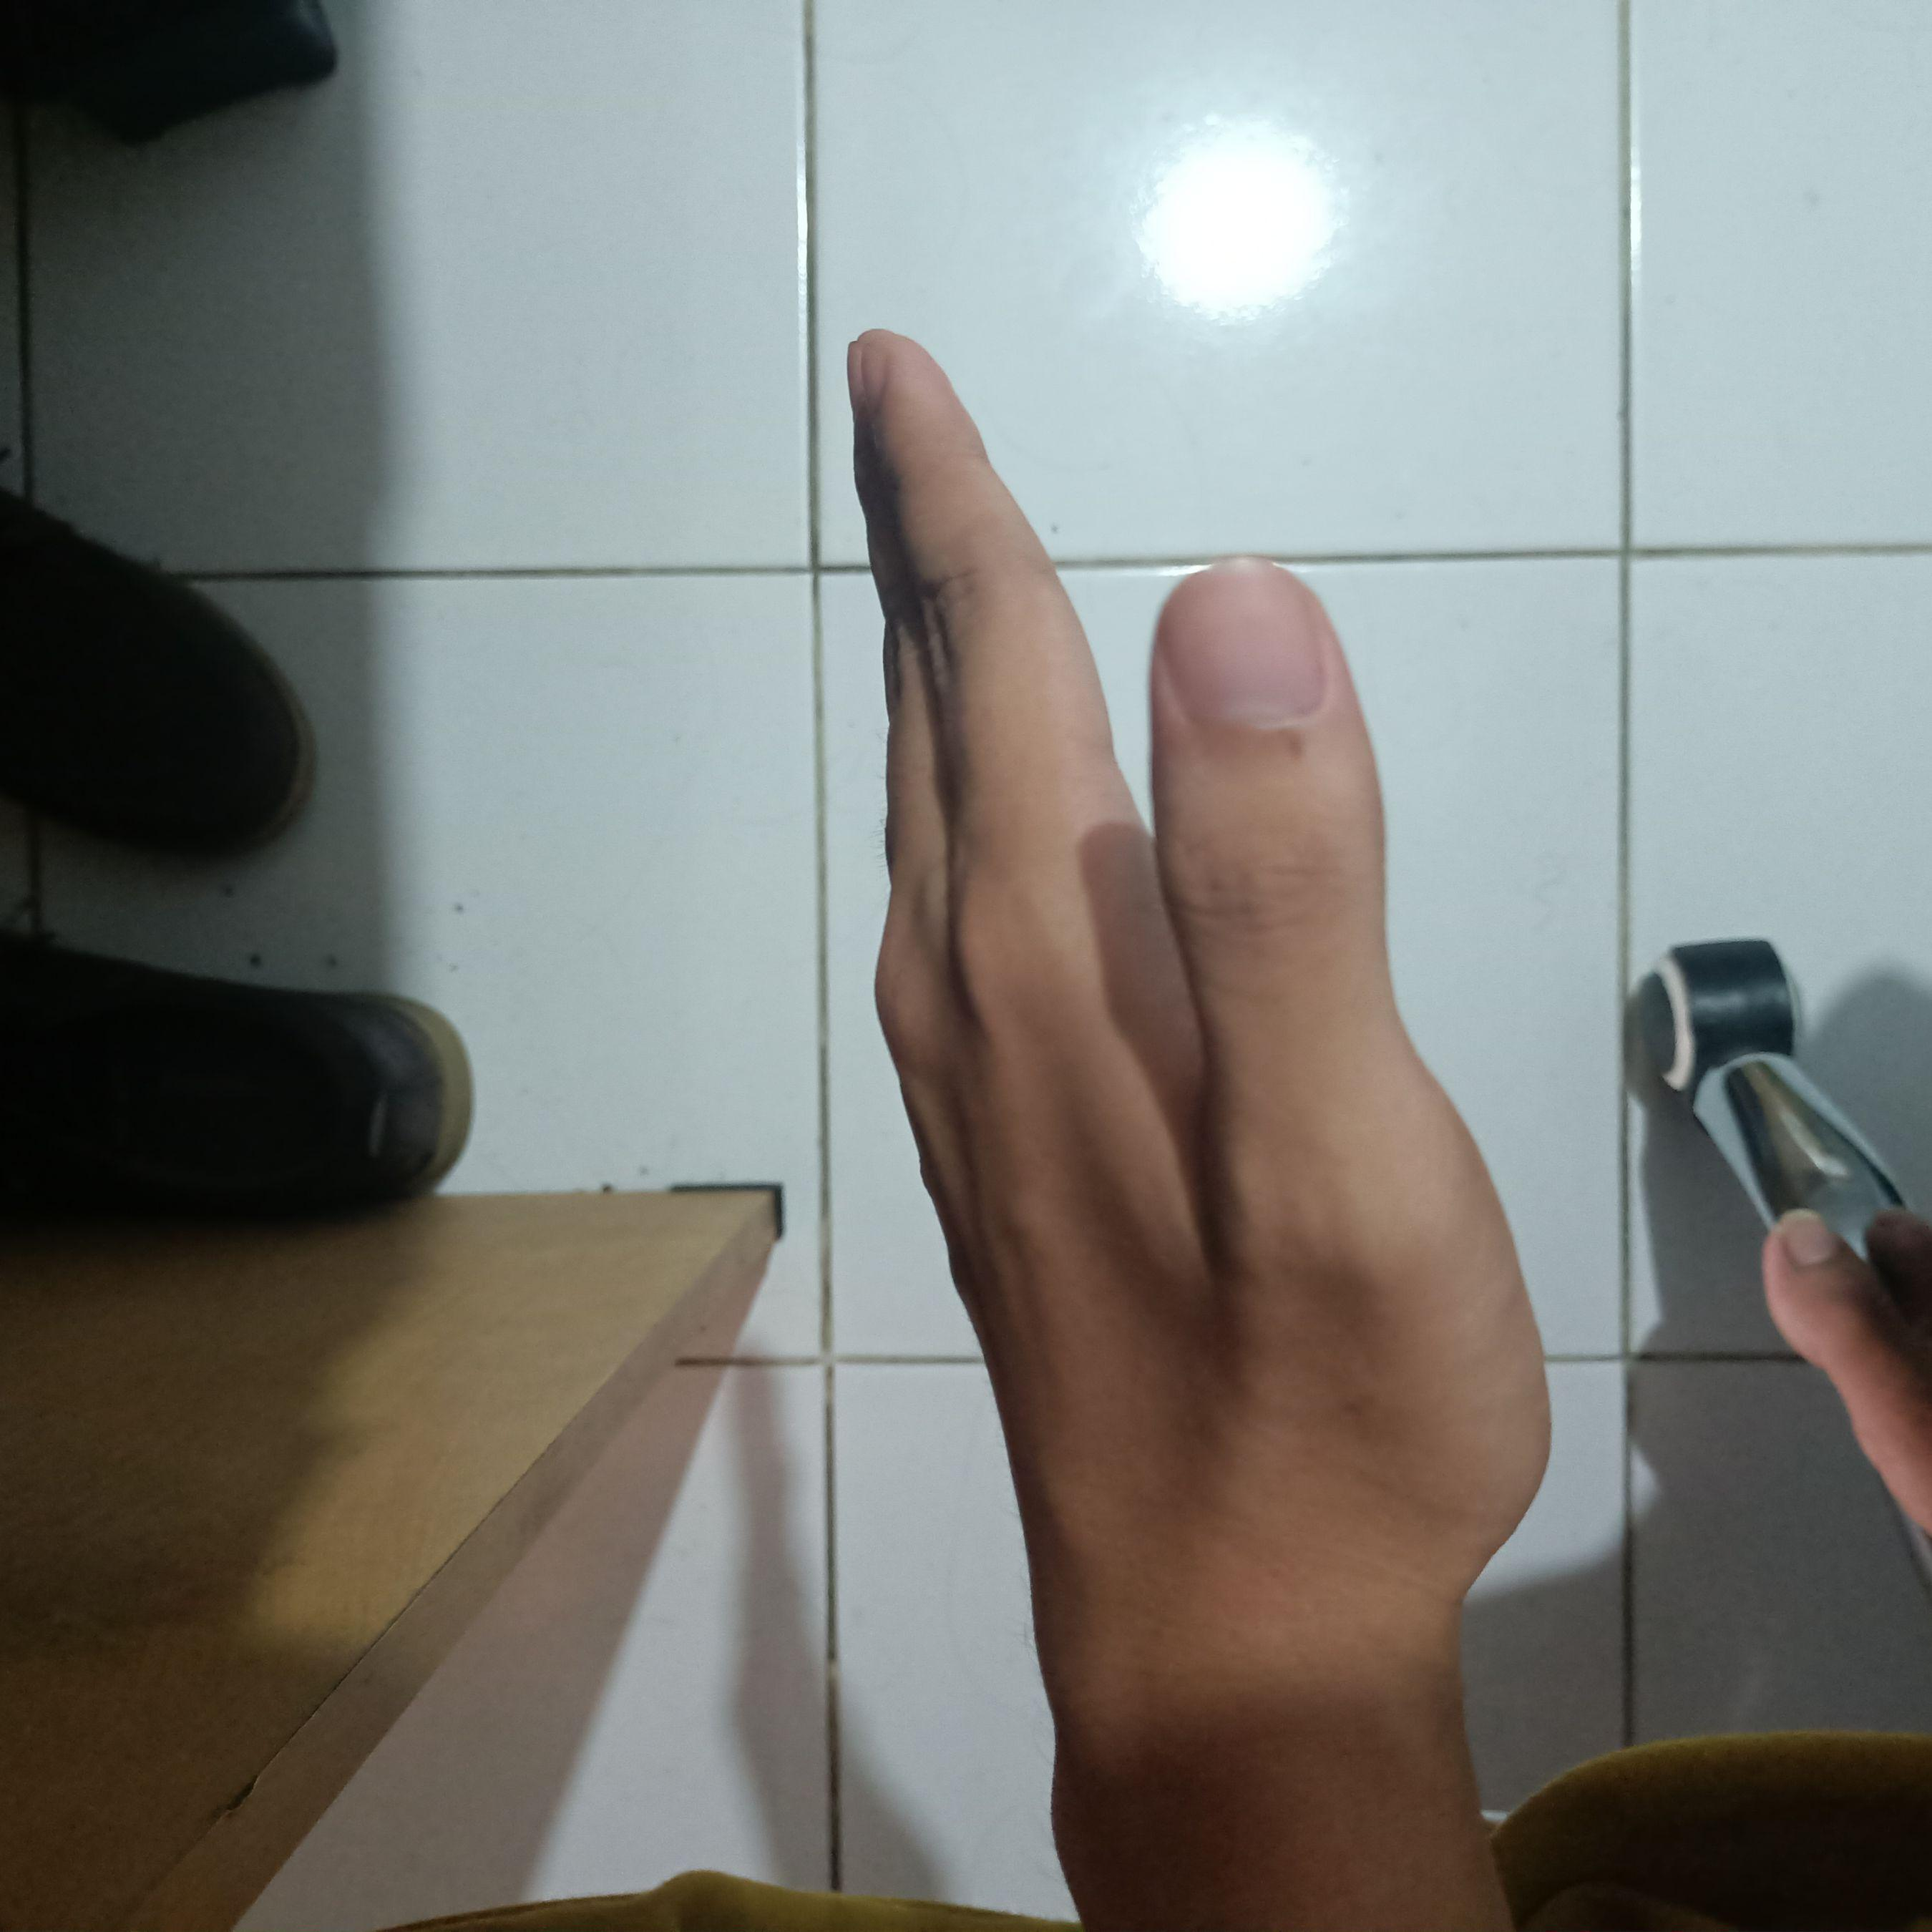paper: (830, 303, 1566, 1743)
